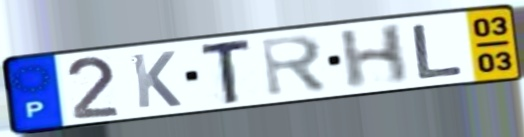2: (66, 54, 121, 120)
H: (336, 21, 411, 92)
K: (128, 49, 185, 111)
L: (411, 21, 467, 81)
R: (257, 33, 331, 100)
T: (199, 36, 255, 107)
